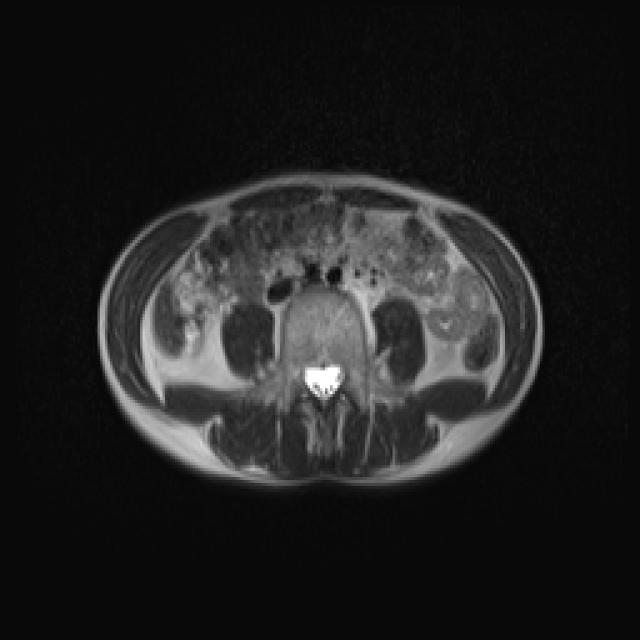sol: (432, 345, 458, 372)
